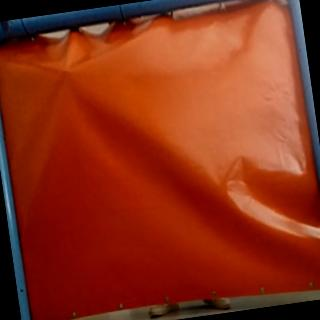Hit-hRxx: (58, 64, 74, 78)
